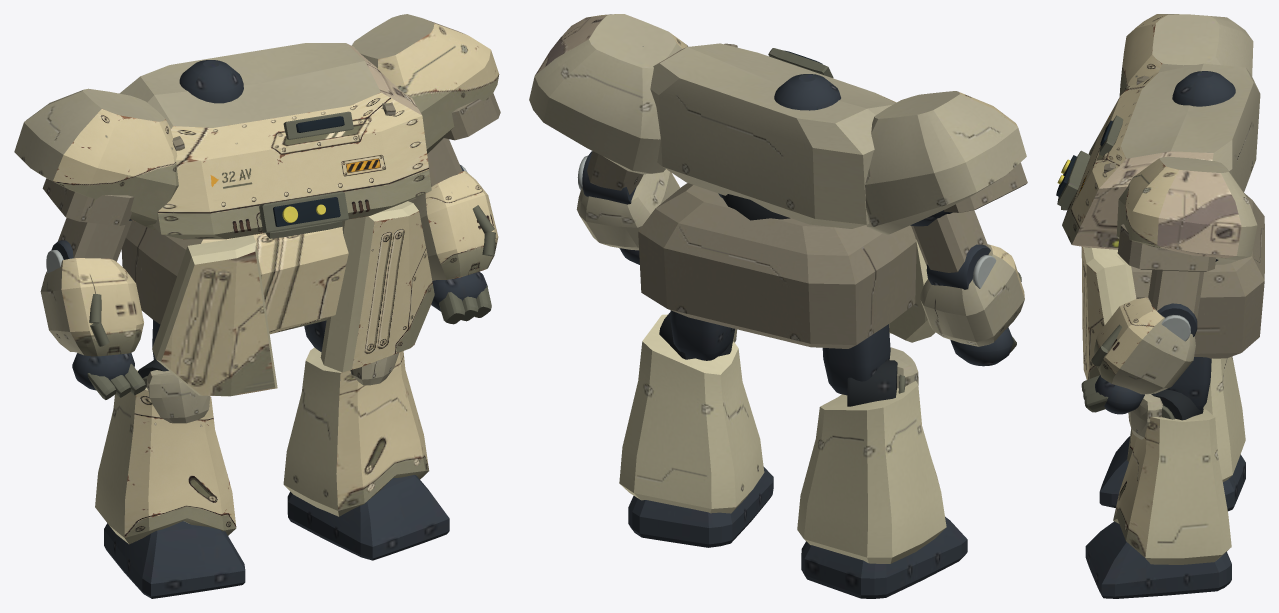
Rendered from compare-nine-baizen-i-v1.glb.
The picture shows the model from 3 angles, left to right: view 1: azimuth 30°, elevation 25°; view 2: azimuth 150°, elevation 25°; view 3: azimuth 270°, elevation 25°; orthographic projection. The views are drawn at different scales.
Parts seen in each view (by area): view 1: Trapezoid pilot cabin, Faceted greave 2, Faceted greave, Split apron, Layered shoulder cowl, Split apron 2, Pelvic gearbox, Layered shoulder cowl 2, Gauntlet housing, Split grounded boot 2, Split grounded boot, Gauntlet housing 2 (+12 smaller); view 2: Pelvic gearbox, Trapezoid pilot cabin, Faceted greave, Faceted greave 2, Layered shoulder cowl, Layered shoulder cowl 2, Gauntlet housing, Split grounded boot, Split grounded boot 2, Gauntlet housing 2, Upper arm clevis, Hip crank (+12 smaller); view 3: Trapezoid pilot cabin, Faceted greave 2, Layered shoulder cowl 2, Pelvic gearbox, Layered shoulder cowl, Gauntlet housing 2, Split grounded boot 2, Split apron 2, Faceted greave, Overlaid shoulder segment 2, Upper arm clevis 2, Split grounded boot (+10 smaller).
Boxes of the visible parts, x1,y1,x2,y2 form: Trapezoid pilot cabin: (119, 43, 431, 239); Faceted greave 2: (283, 347, 429, 516); Faceted greave: (95, 370, 236, 544); Split apron: (152, 235, 277, 396); Layered shoulder cowl: (14, 88, 178, 229); Split apron 2: (320, 201, 434, 372); Pelvic gearbox: (121, 220, 348, 334); Layered shoulder cowl 2: (351, 14, 499, 153); Gauntlet housing: (40, 258, 143, 356); Split grounded boot 2: (287, 475, 449, 560); Split grounded boot: (104, 521, 245, 598); Gauntlet housing 2: (408, 171, 498, 280); Pelvic gearbox: (638, 183, 916, 348); Trapezoid pilot cabin: (650, 43, 896, 228); Faceted greave: (797, 380, 946, 563); Faceted greave 2: (619, 314, 764, 513); Layered shoulder cowl: (865, 91, 1026, 235); Layered shoulder cowl 2: (529, 14, 688, 174); Gauntlet housing: (920, 244, 1024, 346); Split grounded boot: (801, 516, 967, 598); Split grounded boot 2: (628, 467, 773, 547); Gauntlet housing 2: (576, 169, 680, 250); Upper arm clevis: (911, 210, 988, 272); Hip crank: (822, 324, 890, 395); Trapezoid pilot cabin: (1062, 63, 1260, 249); Faceted greave 2: (1113, 409, 1231, 564); Layered shoulder cowl 2: (1116, 156, 1257, 264); Pelvic gearbox: (1131, 193, 1264, 358); Layered shoulder cowl: (1119, 14, 1253, 96); Gauntlet housing 2: (1094, 297, 1195, 394); Split grounded boot 2: (1085, 521, 1231, 598); Split apron 2: (1082, 246, 1136, 379); Faceted greave: (1127, 356, 1245, 481); Overlaid shoulder segment 2: (1117, 224, 1215, 271); Upper arm clevis 2: (1148, 270, 1203, 318); Split grounded boot: (1099, 436, 1245, 511).
Size of the model in its own units: 2.65 by 2.69 by 1.15.
1 material, 1 textured.
